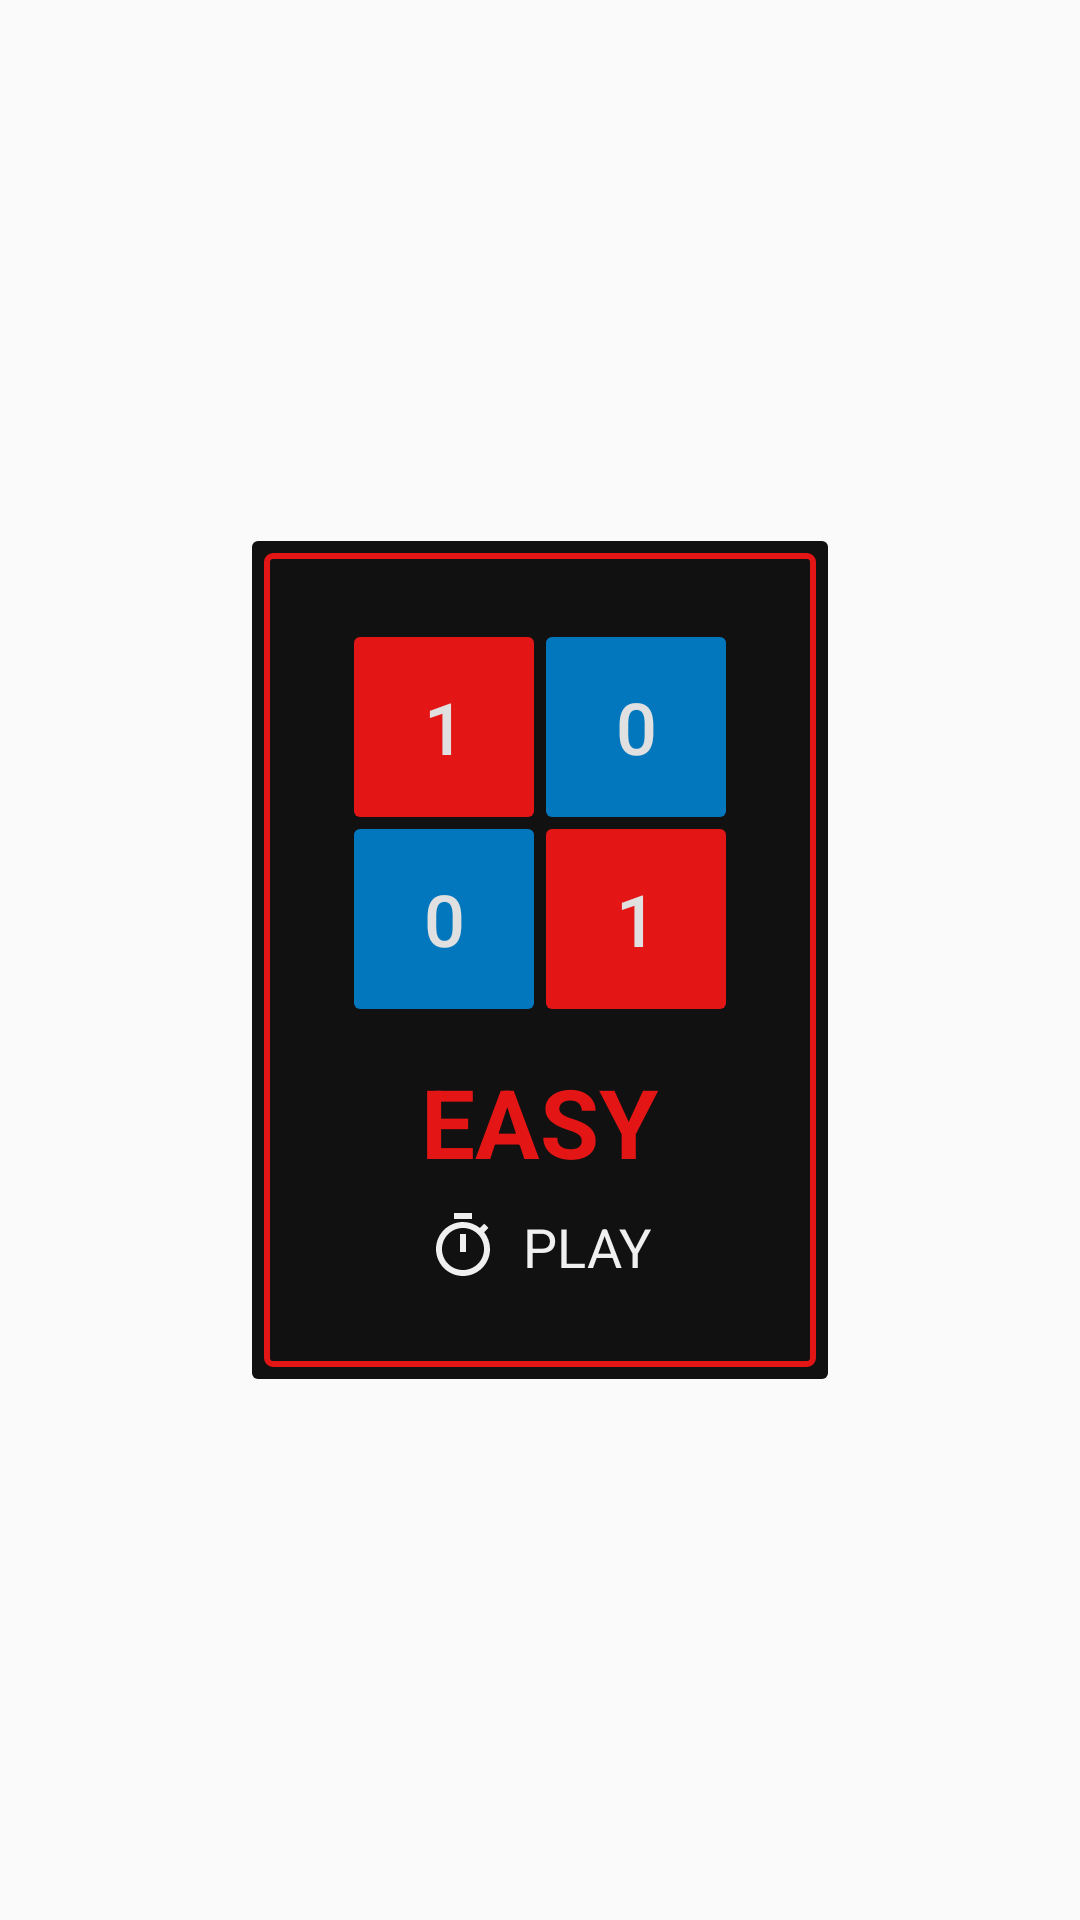

Icon click points for this 1080 x 1920 phone screenshot, format [x,y]:
watch: [463,1244]
